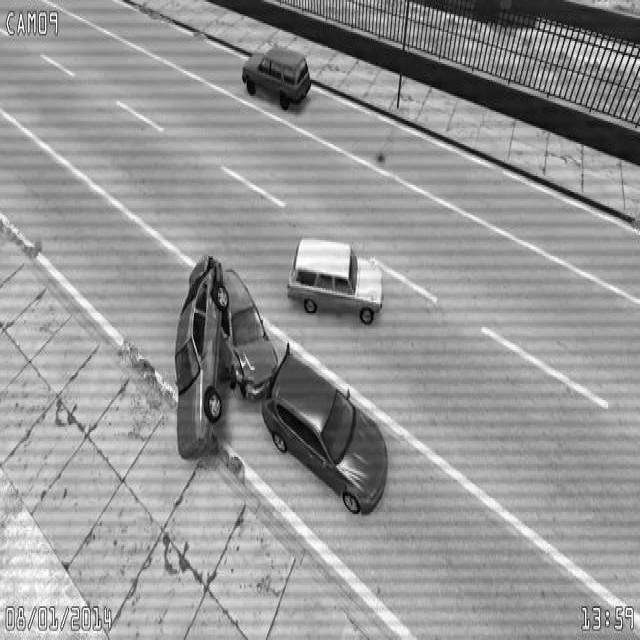accident: (217, 262, 391, 523), (174, 246, 279, 464)
vehicle: (287, 238, 385, 324), (241, 46, 313, 114)
